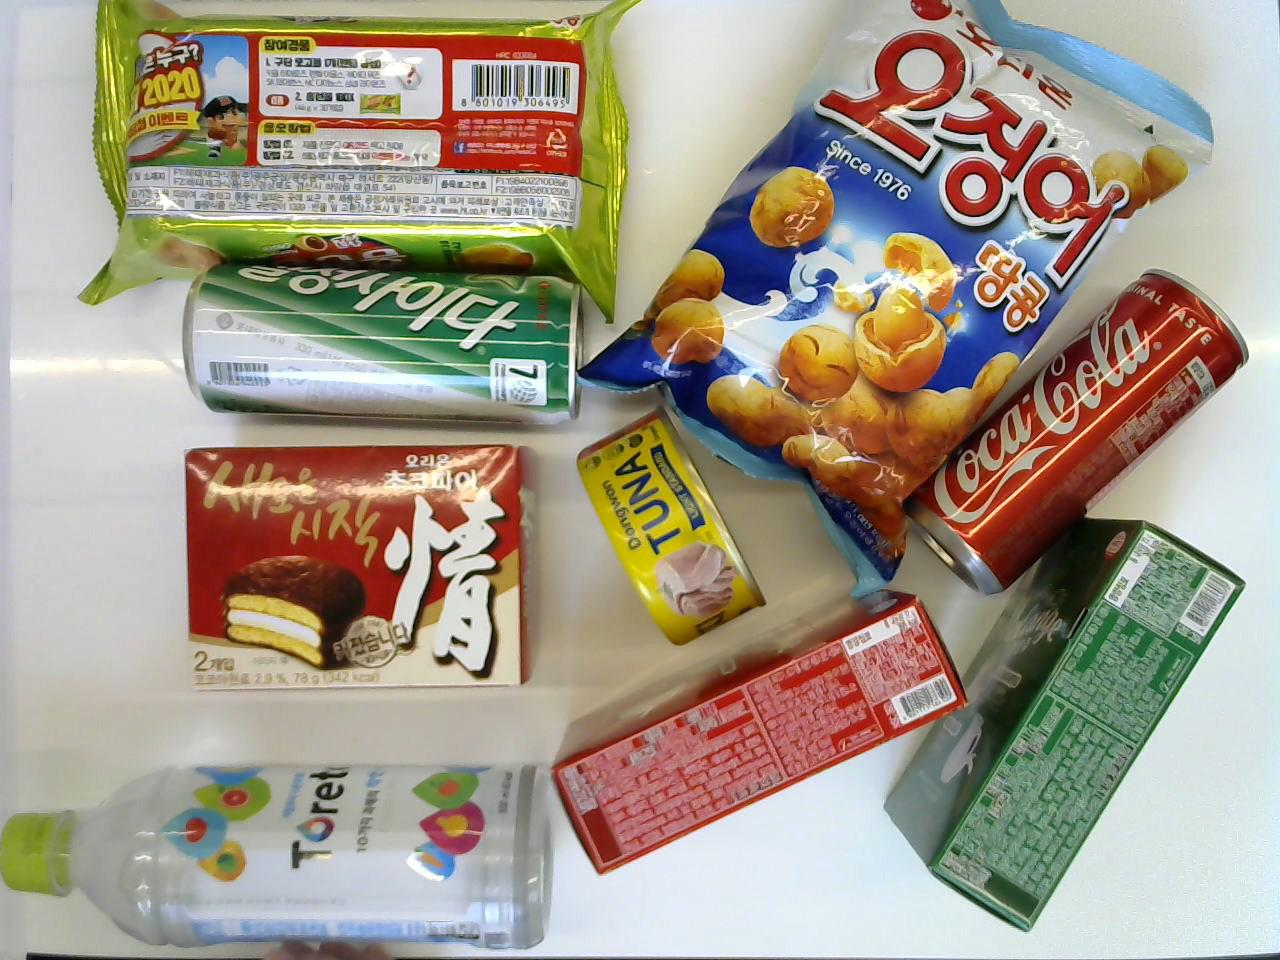chocopie: (176, 438, 540, 693)
cidar: (179, 256, 587, 430)
coke: (902, 256, 1248, 603)
couque_coffee: (884, 516, 1248, 937)
couque_white: (543, 585, 970, 882)
homerunball: (71, 0, 657, 325)
squid_peanut: (575, 0, 1212, 603)
toreta: (0, 749, 559, 952)
tuna: (575, 403, 770, 649)
